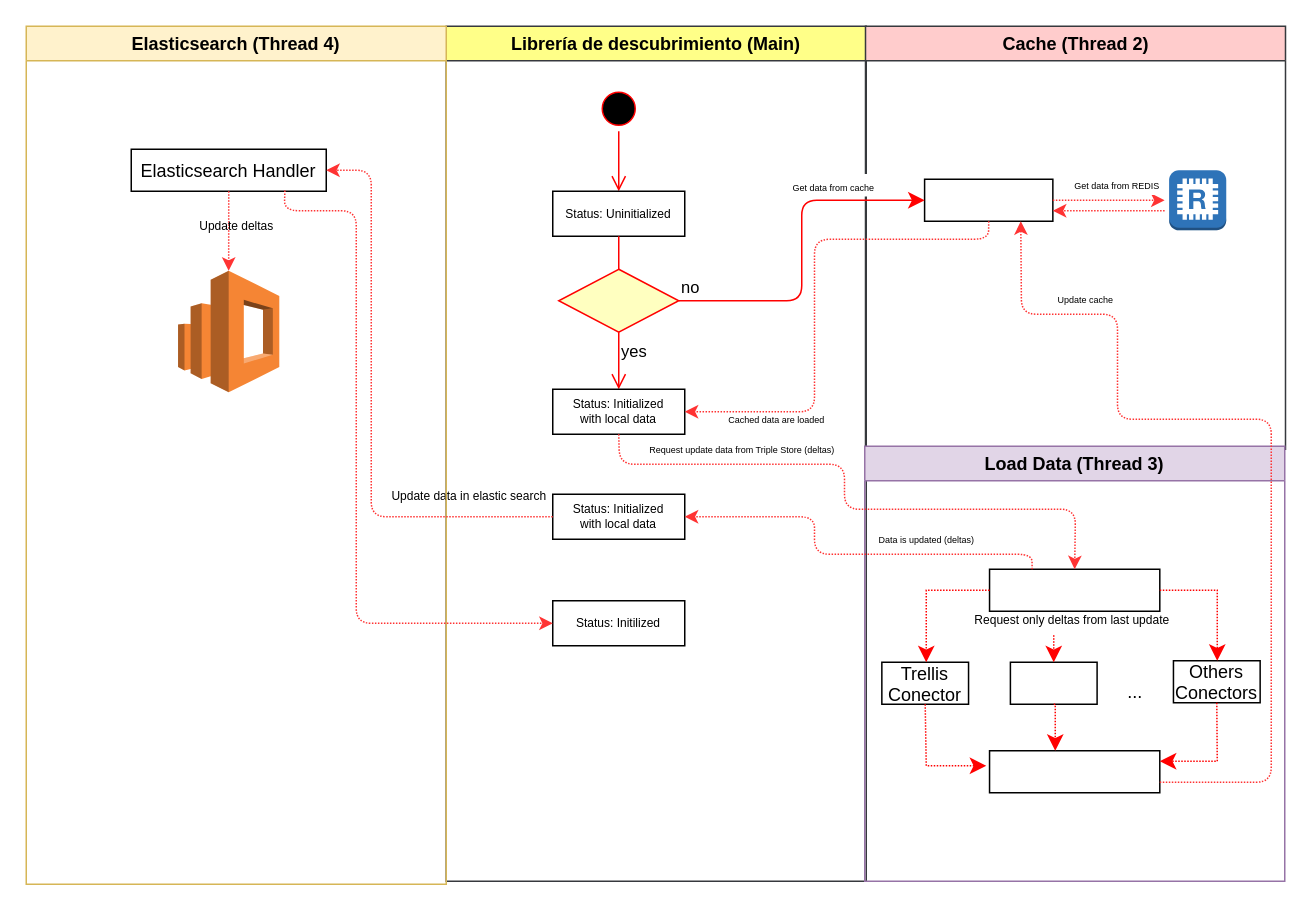
Image size: 1313x911. Some labels were removed from this diagram. The shapes that lost their labels are listed below. From the top down, each one's centre as x and y in pixels, then its label:
the point at 988,199: Cache Handler
the point at 618,300: Is Initialized ?
the point at 228,330: Elasticsearch
the point at 1074,589: Data Load Handler
the point at 1053,682: Wikibase Conector
the point at 1074,771: Data Updated
